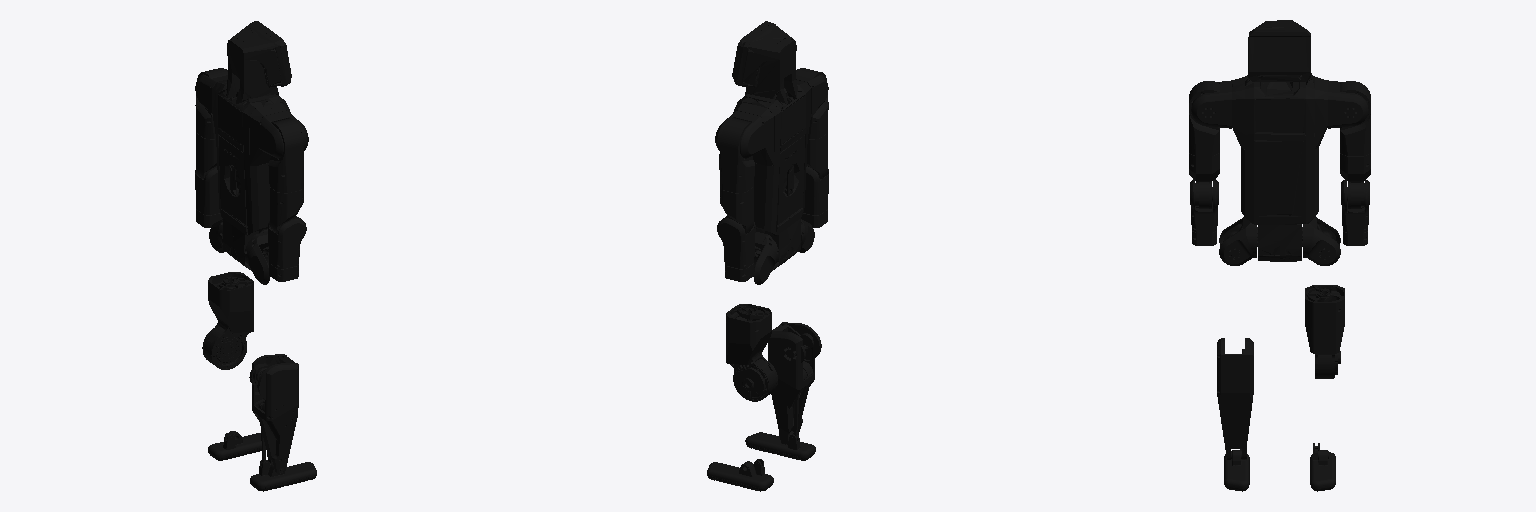
--- Facts derived from the render (not from the file) ---
The picture shows the robot from 3 angles, left to right: view 1: azimuth 30°, elevation 25°; view 2: azimuth 150°, elevation 25°; view 3: azimuth 270°, elevation 25°; orthographic projection.
Model assy_forurdf_kdheadless with 23 links and 22 joints (20 revolute, 2 fixed), rooted at base, posed every joint at zero.
Links seen in each view (by area): view 1: KD_B_102B_TORSO_BTM, KD_D_401R, KD_D_301L_L_Femur_Lower_Drive, RS03_3, KC_C_401R_R_UpForearmDrive, RFootBushing_GPF_1517_12, KC_C_101R_ShldYokeDrive, LFootBushing_GPF_1517_12, KC_C_202R, KD_D_102R, KC_C_401L_Up_Forearm_Drive, RS03_4 (+2 smaller); view 2: KD_B_102B_TORSO_BTM, KD_D_401R, KD_D_301L_L_Femur_Lower_Drive, RS03_4, KC_C_401L_Up_Forearm_Drive, LFootBushing_GPF_1517_12, RFootBushing_GPF_1517_12, KD_C_101L_ShldYokeDrive, KD_C_301L_LowerBicepDrive, KD_D_102L_L_Hip_Yoke_Drive, KC_C_401R_R_UpForearmDrive, RS03_3 (+2 smaller); view 3: KD_B_102B_TORSO_BTM, KD_D_401R, KD_D_301L_L_Femur_Lower_Drive, KD_D_102R, KD_D_102L_L_Hip_Yoke_Drive, KC_C_101R_ShldYokeDrive, KD_C_101L_ShldYokeDrive, RS03_4, RS03_3, KC_C_202R, KD_C_301L_LowerBicepDrive, LFootBushing_GPF_1517_12 (+3 smaller).
Link boxes in pixels (left/top/right/bottom): KD_B_102B_TORSO_BTM: left=212, top=21, right=291, bottom=270; KD_D_401R: left=249, top=354, right=298, bottom=474; KD_D_301L_L_Femur_Lower_Drive: left=202, top=272, right=253, bottom=369; RS03_3: left=268, top=118, right=303, bottom=192; KC_C_401R_R_UpForearmDrive: left=268, top=218, right=306, bottom=268; RFootBushing_GPF_1517_12: left=250, top=460, right=316, bottom=491; KC_C_101R_ShldYokeDrive: left=259, top=111, right=308, bottom=158; LFootBushing_GPF_1517_12: left=208, top=431, right=261, bottom=460; KC_C_202R: left=270, top=186, right=303, bottom=233; KD_D_102R: left=244, top=232, right=269, bottom=284; KC_C_401L_Up_Forearm_Drive: left=195, top=166, right=219, bottom=214; RS03_4: left=195, top=68, right=227, bottom=138; KD_B_102B_TORSO_BTM: left=732, top=21, right=810, bottom=271; KD_D_401R: left=768, top=322, right=821, bottom=443; KD_D_301L_L_Femur_Lower_Drive: left=726, top=304, right=777, bottom=401; RS03_4: left=719, top=118, right=754, bottom=192; KC_C_401L_Up_Forearm_Drive: left=717, top=218, right=755, bottom=268; LFootBushing_GPF_1517_12: left=707, top=459, right=773, bottom=491; RFootBushing_GPF_1517_12: left=745, top=431, right=815, bottom=460; KD_C_101L_ShldYokeDrive: left=715, top=111, right=764, bottom=158; KD_C_301L_LowerBicepDrive: left=720, top=187, right=753, bottom=233; KD_D_102L_L_Hip_Yoke_Drive: left=753, top=232, right=778, bottom=284; KC_C_401R_R_UpForearmDrive: left=803, top=166, right=828, bottom=214; RS03_3: left=796, top=68, right=828, bottom=138; KD_B_102B_TORSO_BTM: left=1232, top=20, right=1327, bottom=261; KD_D_401R: left=1217, top=338, right=1253, bottom=459; KD_D_301L_L_Femur_Lower_Drive: left=1305, top=285, right=1344, bottom=378; KD_D_102R: left=1219, top=217, right=1257, bottom=265; KD_D_102L_L_Hip_Yoke_Drive: left=1302, top=217, right=1340, bottom=265; KC_C_101R_ShldYokeDrive: left=1191, top=80, right=1231, bottom=128; KD_C_101L_ShldYokeDrive: left=1328, top=80, right=1368, bottom=128; RS03_4: left=1340, top=81, right=1370, bottom=155; RS03_3: left=1189, top=81, right=1219, bottom=155; KC_C_202R: left=1189, top=153, right=1219, bottom=208; KD_C_301L_LowerBicepDrive: left=1340, top=153, right=1370, bottom=208; LFootBushing_GPF_1517_12: left=1310, top=443, right=1335, bottom=491.
Bounding box of the posed robot: 0.2254 × 0.516 × 1.4 m (x, y, z).
18 mesh visuals loaded from 22 distinct referenced files (18 binary STL); not drawn: 4 (reference not matched to a file when rendering).

The robot description file, URDF, robot "assy_forurdf_kdheadless":
<?xml version="1.0" ?>
<robot name="assy_forurdf_kdheadless">
  <link name="base">
    <visual name="base_visual">
      <geometry name="base_geometry">
        <sphere radius="0.01"/>
      </geometry>
      <material name="base_material">
        <color rgba="1 0 0 1"/>
      </material>
      <origin xyz="0 0 0" rpy="0 0 1.5708"/>
    </visual>
    <inertial name="base_inertial">
      <mass value="0.001"/>
      <inertia ixx="0.000001" iyy="0.000001" izz="0.000001" ixy="0" ixz="0" iyz="0"/>
      <origin xyz="0 0 0" rpy="0 0 1.5708"/>
    </inertial>
  </link>
  <joint name="base_joint" type="fixed">
    <parent link="base"/>
    <child link="KD_B_102B_TORSO_BTM"/>
    <origin xyz="0 0 0" rpy="0 0 1.5708"/>
  </joint>
  <joint name="dof_left_hip_pitch_04" type="revolute">
    <origin xyz="0.056001 0.002025 -0.073841" rpy="-1.570796 0 1.570796"/>
    <parent link="KD_B_102B_TORSO_BTM"/>
    <child link="KD_D_102L_L_Hip_Yoke_Drive"/>
    <limit effort="120" velocity="17.488" lower="-1.047198" upper="2.216568"/>
    <axis xyz="0 0 1"/>
  </joint>
  <joint name="dof_right_shoulder_pitch_03" type="revolute">
    <origin xyz="-0.120999 0.002025 0.336659" rpy="0 -1.570796 0"/>
    <parent link="KD_B_102B_TORSO_BTM"/>
    <child link="KC_C_101R_ShldYokeDrive"/>
    <limit effort="60" velocity="18.849" lower="-3.490658" upper="1.047198"/>
    <axis xyz="0 0 -1"/>
  </joint>
  <joint name="dof_left_shoulder_pitch_03" type="revolute">
    <origin xyz="0.121001 0.002025 0.336659" rpy="0 1.570796 0"/>
    <parent link="KD_B_102B_TORSO_BTM"/>
    <child link="KD_C_101L_ShldYokeDrive"/>
    <limit effort="60" velocity="18.849" lower="-1.047198" upper="3.490658"/>
    <axis xyz="0 0 -1"/>
  </joint>
  <joint name="dof_left_hip_roll_03" type="revolute">
    <origin xyz="-0.028250 0.030000 -0.071000" rpy="3.141593 -1.570796 0"/>
    <parent link="KD_D_102L_L_Hip_Yoke_Drive"/>
    <child link="L_Hip_Roll_RS03"/>
    <limit effort="60" velocity="18.849" lower="-0.209440" upper="2.268928"/>
    <axis xyz="0 0 -1"/>
  </joint>
  <joint name="dof_right_hip_pitch_04" type="revolute">
    <origin xyz="-0.055999 0.002025 -0.073841" rpy="1.570796 0 1.570796"/>
    <parent link="KD_B_102B_TORSO_BTM"/>
    <child link="KD_D_102R"/>
    <limit effort="120" velocity="17.488" lower="-2.216568" upper="1.047198"/>
    <axis xyz="0 0 1"/>
  </joint>
  <joint name="dof_right_shoulder_roll_03" type="revolute">
    <origin xyz="0 -0.024250 0.080000" rpy="1.570796 1.570796 0"/>
    <parent link="KC_C_101R_ShldYokeDrive"/>
    <child link="RS03_3"/>
    <limit effort="60" velocity="18.849" lower="-1.658063" upper="0.436332"/>
    <axis xyz="0 0 1"/>
  </joint>
  <joint name="frame_imu_site" type="fixed" dont_collapse="true">
    <origin xyz="0.003707 -0.010539 0.394701" rpy="0.011111 0 0"/>
    <parent link="KD_B_102B_TORSO_BTM"/>
    <child link="imu"/>
  </joint>
  <joint name="dof_left_shoulder_roll_03" type="revolute">
    <origin xyz="0 -0.024250 0.080000" rpy="1.570796 -1.570796 0"/>
    <parent link="KD_C_101L_ShldYokeDrive"/>
    <child link="RS03_4"/>
    <limit effort="60" velocity="18.849" lower="-0.436332" upper="1.658063"/>
    <axis xyz="0 0 1"/>
  </joint>
  <joint name="dof_right_hip_roll_03" type="revolute">
    <origin xyz="-0.028250 -0.030000 -0.071000" rpy="0 -1.570796 0"/>
    <parent link="KD_D_102R"/>
    <child link="L_Hip_Roll_RS03_2"/>
    <limit effort="60" velocity="18.849" lower="-2.268928" upper="0.209440"/>
    <axis xyz="0 0 1"/>
  </joint>
  <joint name="dof_left_hip_yaw_03" type="revolute">
    <origin xyz="0 -0.143000 0.025250" rpy="1.570796 0 -3.141593"/>
    <parent link="L_Hip_Roll_RS03"/>
    <child link="KD_D_301L_L_Femur_Lower_Drive"/>
    <limit effort="60" velocity="18.849" lower="-1.570796" upper="1.570796"/>
    <axis xyz="0 0 1"/>
  </joint>
  <joint name="dof_right_shoulder_yaw_02" type="revolute">
    <origin xyz="-0.013000 -0.142500 -0.031670" rpy="-1.570796 0 0"/>
    <parent link="RS03_3"/>
    <child link="KC_C_202R"/>
    <limit effort="17" velocity="37.699" lower="-1.671886" upper="1.671886"/>
    <axis xyz="0 0 1"/>
  </joint>
  <joint name="dof_left_shoulder_yaw_02" type="revolute">
    <origin xyz="0.013000 -0.142500 -0.030750" rpy="-1.570796 0 0"/>
    <parent link="RS03_4"/>
    <child link="KD_C_301L_LowerBicepDrive"/>
    <limit effort="17" velocity="37.699" lower="-1.671886" upper="1.671886"/>
    <axis xyz="0 0 1"/>
  </joint>
  <joint name="dof_right_hip_yaw_03" type="revolute">
    <origin xyz="0 -0.143000 -0.025250" rpy="-1.570796 0 0"/>
    <parent link="L_Hip_Roll_RS03_2"/>
    <child link="KD_D_301R"/>
    <limit effort="60" velocity="18.849" lower="-1.570796" upper="1.570796"/>
    <axis xyz="0 0 1"/>
  </joint>
  <joint name="dof_left_knee_04" type="revolute">
    <origin xyz="-0.021000 0.021000 -0.212000" rpy="1.570796 0 1.570796"/>
    <parent link="KD_D_301L_L_Femur_Lower_Drive"/>
    <child link="KD_D_401L_L_Shin_Drive"/>
    <limit effort="120" velocity="17.488" lower="0" upper="2.705260"/>
    <axis xyz="0 0 1"/>
  </joint>
  <joint name="dof_right_elbow_02" type="revolute">
    <origin xyz="0.019000 -0.010000 -0.137000" rpy="-1.570796 0 1.570796"/>
    <parent link="KC_C_202R"/>
    <child link="KC_C_401R_R_UpForearmDrive"/>
    <limit effort="17" velocity="37.699" lower="0" upper="2.478368"/>
    <axis xyz="0 0 1"/>
  </joint>
  <joint name="dof_left_elbow_02" type="revolute">
    <origin xyz="-0.019000 -0.010000 -0.137000" rpy="1.570796 0 1.570796"/>
    <parent link="KD_C_301L_LowerBicepDrive"/>
    <child link="KC_C_401L_Up_Forearm_Drive"/>
    <limit effort="17" velocity="37.699" lower="-2.478368" upper="0"/>
    <axis xyz="0 0 1"/>
  </joint>
  <joint name="dof_left_ankle_02" type="revolute">
    <origin xyz="-0.030000 -0.290000 0.000950" rpy="3.141593 0 0"/>
    <parent link="KD_D_401L_L_Shin_Drive"/>
    <child link="LFootBushing_GPF_1517_12"/>
    <limit effort="17" velocity="37.699" lower="-1.134464" upper="0.261799"/>
    <axis xyz="0 0 -1"/>
  </joint>
  <joint name="dof_right_knee_04" type="revolute">
    <origin xyz="0.021000 0.021000 -0.212000" rpy="1.570796 0 1.570796"/>
    <parent link="KD_D_301R"/>
    <child link="KD_D_401R"/>
    <limit effort="120" velocity="17.488" lower="-2.705260" upper="0"/>
    <axis xyz="0 0 -1"/>
  </joint>
  <joint name="dof_right_ankle_02" type="revolute">
    <origin xyz="-0.030000 -0.290000 -0.000950" rpy="0 0 0"/>
    <parent link="KD_D_401R"/>
    <child link="RFootBushing_GPF_1517_12"/>
    <limit effort="17" velocity="37.699" lower="-0.261799" upper="1.134464"/>
    <axis xyz="0 0 -1"/>
  </joint>
  <joint name="dof_right_wrist_00" type="revolute">
    <origin xyz="0.017350 0.103000 0.018000" rpy="-1.570796 1.570796 0"/>
    <parent link="KC_C_401R_R_UpForearmDrive"/>
    <child link="PRT0001"/>
    <limit effort="14" velocity="27.227" lower="-1.378810" upper="1.378810"/>
    <axis xyz="0 0 -1"/>
  </joint>
  <joint name="dof_left_wrist_00" type="revolute">
    <origin xyz="0.017350 -0.103000 0.018000" rpy="1.570796 -1.570796 0"/>
    <parent link="KC_C_401L_Up_Forearm_Drive"/>
    <child link="PRT0001_2"/>
    <limit effort="14" velocity="27.227" lower="-1.378810" upper="1.378810"/>
    <axis xyz="0 0 -1"/>
  </joint>
  <link name="KD_B_102B_TORSO_BTM">
    <visual name="KD_B_102B_TORSO_BTM_visual">
      <origin xyz="0 0 0" rpy="0 0 0"/>
      <geometry name="KD_B_102B_TORSO_BTM_geometry">
        <mesh filename="meshes/KD_B_102B_TORSO_BTM.stl"/>
      </geometry>
      <material name="KD_B_102B_TORSO_BTM_material">
        <color rgba="0.121569 0.121569 0.121569 1"/>
      </material>
    </visual>
    <collision name="KD_B_102B_TORSO_BTM.collision">
      <origin xyz="0 0 0" rpy="0 0 0"/>
      <geometry name="KD_B_102B_TORSO_BTM_collision_geometry">
        <mesh filename="meshes/KD_B_102B_TORSO_BTM.collision.stl"/>
      </geometry>
    </collision>
    <inertial name="KD_B_102B_TORSO_BTM_inertial">
      <mass value="12.968840"/>
      <inertia ixx="0.542704" iyy="0.570591" izz="0.062989" ixy="-0.000003" ixz="0.000138" iyz="0.017774"/>
      <origin xyz="-0.000062 0.000320 0.159904" rpy="0 0 0"/>
    </inertial>
  </link>
  <link name="KD_D_102L_L_Hip_Yoke_Drive">
    <visual name="KD_D_102L_L_Hip_Yoke_Drive_visual">
      <origin xyz="0 0 0" rpy="0 0 0"/>
      <geometry name="KD_D_102L_L_Hip_Yoke_Drive_geometry">
        <mesh filename="meshes/KD_D_102L_L_Hip_Yoke_Drive.stl"/>
      </geometry>
      <material name="KD_D_102L_L_Hip_Yoke_Drive_material">
        <color rgba="0.121569 0.121569 0.121569 1"/>
      </material>
    </visual>
    <collision name="KD_D_102L_L_Hip_Yoke_Drive.collision">
      <origin xyz="0 0 0" rpy="0 0 0"/>
      <geometry name="KD_D_102L_L_Hip_Yoke_Drive_collision_geometry">
        <mesh filename="meshes/KD_D_102L_L_Hip_Yoke_Drive.collision.stl"/>
      </geometry>
    </collision>
    <inertial name="KD_D_102L_L_Hip_Yoke_Drive_inertial">
      <mass value="0.550354"/>
      <inertia ixx="0.000930" iyy="0.001251" izz="0.001328" ixy="0.000057" ixz="-0.000041" iyz="0.000182"/>
      <origin xyz="-0.004258 0.005667 -0.040380" rpy="0 0 0"/>
    </inertial>
  </link>
  <link name="KC_C_101R_ShldYokeDrive">
    <visual name="KC_C_101R_ShldYokeDrive_visual">
      <origin xyz="0 0 0" rpy="0 0 0"/>
      <geometry name="KC_C_101R_ShldYokeDrive_geometry">
        <mesh filename="meshes/KC_C_101R_ShldYokeDrive.stl"/>
      </geometry>
      <material name="KC_C_101R_ShldYokeDrive_material">
        <color rgba="0.121569 0.121569 0.121569 1"/>
      </material>
    </visual>
    <collision name="KC_C_101R_ShldYokeDrive.collision">
      <origin xyz="0 0 0" rpy="0 0 0"/>
      <geometry name="KC_C_101R_ShldYokeDrive_collision_geometry">
        <mesh filename="meshes/KC_C_101R_ShldYokeDrive.collision.stl"/>
      </geometry>
    </collision>
    <inertial name="KC_C_101R_ShldYokeDrive_inertial">
      <mass value="0.569870"/>
      <inertia ixx="0.001409" iyy="0.001159" izz="0.001309" ixy="0" ixz="0.000001" iyz="0.000162"/>
      <origin xyz="0.003158 -0.007737 0.047375" rpy="0 0 0"/>
    </inertial>
  </link>
  <link name="KD_C_101L_ShldYokeDrive">
    <visual name="KD_C_101L_ShldYokeDrive_visual">
      <origin xyz="0 0 0" rpy="0 0 0"/>
      <geometry name="KD_C_101L_ShldYokeDrive_geometry">
        <mesh filename="meshes/KD_C_101L_ShldYokeDrive.stl"/>
      </geometry>
      <material name="KD_C_101L_ShldYokeDrive_material">
        <color rgba="0.121569 0.121569 0.121569 1"/>
      </material>
    </visual>
    <collision name="KD_C_101L_ShldYokeDrive.collision">
      <origin xyz="0 0 0" rpy="0 0 0"/>
      <geometry name="KD_C_101L_ShldYokeDrive_collision_geometry">
        <mesh filename="meshes/KD_C_101L_ShldYokeDrive.collision.stl"/>
      </geometry>
    </collision>
    <inertial name="KD_C_101L_ShldYokeDrive_inertial">
      <mass value="0.569863"/>
      <inertia ixx="0.001409" iyy="0.001159" izz="0.001309" ixy="0" ixz="-0.000001" iyz="0.000162"/>
      <origin xyz="-0.003158 -0.007737 0.047374" rpy="0 0 0"/>
    </inertial>
  </link>
  <link name="L_Hip_Roll_RS03">
    <visual name="L_Hip_Roll_RS03_visual">
      <origin xyz="0 0 0" rpy="0 0 0"/>
      <geometry name="L_Hip_Roll_RS03_geometry">
        <mesh filename="meshes/L_Hip_Roll_RS03.stl"/>
      </geometry>
      <material name="L_Hip_Roll_RS03_material">
        <color rgba="0.121569 0.121569 0.121569 1"/>
      </material>
    </visual>
    <collision name="L_Hip_Roll_RS03.collision">
      <origin xyz="0 0 0" rpy="0 0 0"/>
      <geometry name="L_Hip_Roll_RS03_collision_geometry">
        <mesh filename="meshes/L_Hip_Roll_RS03.collision.stl"/>
      </geometry>
    </collision>
    <inertial name="L_Hip_Roll_RS03_inertial">
      <mass value="2.396969"/>
      <inertia ixx="0.010350" iyy="0.003224" izz="0.010755" ixy="0.000002" ixz="0.000009" iyz="-0.000303"/>
      <origin xyz="-0.000136 -0.059376 0.026066" rpy="0 0 0"/>
    </inertial>
  </link>
  <link name="KD_D_102R">
    <visual name="KD_D_102R_visual">
      <origin xyz="0 0 0" rpy="0 0 0"/>
      <geometry name="KD_D_102R_geometry">
        <mesh filename="meshes/KD_D_102R.stl"/>
      </geometry>
      <material name="KD_D_102R_material">
        <color rgba="0.121569 0.121569 0.121569 1"/>
      </material>
    </visual>
    <collision name="KD_D_102R.collision">
      <origin xyz="0 0 0" rpy="0 0 0"/>
      <geometry name="KD_D_102R_collision_geometry">
        <mesh filename="meshes/KD_D_102R.collision.stl"/>
      </geometry>
    </collision>
    <inertial name="KD_D_102R_inertial">
      <mass value="0.550361"/>
      <inertia ixx="0.000930" iyy="0.001251" izz="0.001328" ixy="-0.000057" ixz="-0.000041" iyz="-0.000182"/>
      <origin xyz="-0.004258 -0.005667 -0.040379" rpy="0 0 0"/>
    </inertial>
  </link>
  <link name="RS03_3">
    <visual name="RS03_visual_3">
      <origin xyz="0 0 0" rpy="0 0 0"/>
      <geometry name="RS03_geometry_3">
        <mesh filename="meshes/RS03_3.stl"/>
      </geometry>
      <material name="RS03_material_3">
        <color rgba="0.121569 0.121569 0.121569 1"/>
      </material>
    </visual>
    <collision name="RS03.collision_3">
      <origin xyz="0 0 0" rpy="0 0 0"/>
      <geometry name="RS03_collision_geometry_3">
        <mesh filename="meshes/RS03_3.collision.stl"/>
      </geometry>
    </collision>
    <inertial name="RS03_inertial_3">
      <mass value="1.789232"/>
      <inertia ixx="0.007176" iyy="0.001972" izz="0.007602" ixy="-0.000597" ixz="-0.000001" iyz="-0.000081"/>
      <origin xyz="-0.004909 -0.041175 -0.029409" rpy="0 0 0"/>
    </inertial>
  </link>
  <link name="imu">
    <visual name="imu_visual">
      <origin xyz="0 0 0" rpy="0 0 0"/>
      <geometry name="imu_geometry">
        <mesh filename="meshes/imu.stl"/>
      </geometry>
      <material name="imu_material">
        <color rgba="0.121569 0.121569 0.121569 1"/>
      </material>
    </visual>
    <collision name="imu.collision">
      <origin xyz="0 0 0" rpy="0 0 0"/>
      <geometry name="imu_collision_geometry">
        <mesh filename="meshes/imu.collision.stl"/>
      </geometry>
    </collision>
    <inertial name="imu_inertial">
      <mass value="0.005700"/>
      <inertia ixx="0.000001" iyy="0.000001" izz="0.000002" ixy="0" ixz="0" iyz="0"/>
      <origin xyz="-0.003012 -0.000068 0.002999" rpy="0 0 0"/>
    </inertial>
  </link>
  <link name="RS03_4">
    <visual name="RS03_visual_4">
      <origin xyz="0 0 0" rpy="0 0 0"/>
      <geometry name="RS03_geometry_4">
        <mesh filename="meshes/RS03_4.stl"/>
      </geometry>
      <material name="RS03_material_4">
        <color rgba="0.121569 0.121569 0.121569 1"/>
      </material>
    </visual>
    <collision name="RS03.collision_4">
      <origin xyz="0 0 0" rpy="0 0 0"/>
      <geometry name="RS03_collision_geometry_4">
        <mesh filename="meshes/RS03_4.collision.stl"/>
      </geometry>
    </collision>
    <inertial name="RS03_inertial_4">
      <mass value="1.789190"/>
      <inertia ixx="0.007175" iyy="0.001972" izz="0.007602" ixy="0.000599" ixz="0.000012" iyz="-0.000104"/>
      <origin xyz="0.004876 -0.041173 -0.029352" rpy="0 0 0"/>
    </inertial>
  </link>
  <link name="L_Hip_Roll_RS03_2">
    <visual name="L_Hip_Roll_RS03_visual_2">
      <origin xyz="0 0 0" rpy="0 0 0"/>
      <geometry name="L_Hip_Roll_RS03_geometry_2">
        <mesh filename="meshes/L_Hip_Roll_RS03_2.stl"/>
      </geometry>
      <material name="L_Hip_Roll_RS03_material_2">
        <color rgba="0.121569 0.121569 0.121569 1"/>
      </material>
    </visual>
    <collision name="L_Hip_Roll_RS03.collision_2">
      <origin xyz="0 0 0" rpy="0 0 0"/>
      <geometry name="L_Hip_Roll_RS03_collision_geometry_2">
        <mesh filename="meshes/L_Hip_Roll_RS03_2.collision.stl"/>
      </geometry>
    </collision>
    <inertial name="L_Hip_Roll_RS03_inertial_2">
      <mass value="2.396917"/>
      <inertia ixx="0.010350" iyy="0.003224" izz="0.010755" ixy="0.000002" ixz="-0.000009" iyz="0.000303"/>
      <origin xyz="-0.000137 -0.059376 -0.026067" rpy="0 0 0"/>
    </inertial>
  </link>
  <link name="KD_D_301L_L_Femur_Lower_Drive">
    <visual name="KD_D_301L_L_Femur_Lower_Drive_visual">
      <origin xyz="0 0 0" rpy="0 0 0"/>
      <geometry name="KD_D_301L_L_Femur_Lower_Drive_geometry">
        <mesh filename="meshes/KD_D_301L_L_Femur_Lower_Drive.stl"/>
      </geometry>
      <material name="KD_D_301L_L_Femur_Lower_Drive_material">
        <color rgba="0.121569 0.121569 0.121569 1"/>
      </material>
    </visual>
    <collision name="KD_D_301L_L_Femur_Lower_Drive.collision">
      <origin xyz="0 0 0" rpy="0 0 0"/>
      <geometry name="KD_D_301L_L_Femur_Lower_Drive_collision_geometry">
        <mesh filename="meshes/KD_D_301L_L_Femur_Lower_Drive.collision.stl"/>
      </geometry>
    </collision>
    <inertial name="KD_D_301L_L_Femur_Lower_Drive_inertial">
      <mass value="2.349254"/>
      <inertia ixx="0.015361" iyy="0.013924" izz="0.004011" ixy="-0.000189" ixz="0.001119" iyz="0.001496"/>
      <origin xyz="0.001576 0.013392 -0.172799" rpy="0 0 0"/>
    </inertial>
  </link>
  <link name="KC_C_202R">
    <visual name="KC_C_202R_visual">
      <origin xyz="0 0 0" rpy="0 0 0"/>
      <geometry name="KC_C_202R_geometry">
        <mesh filename="meshes/KC_C_202R.stl"/>
      </geometry>
      <material name="KC_C_202R_material">
        <color rgba="0.121569 0.121569 0.121569 1"/>
      </material>
    </visual>
    <collision name="KC_C_202R.collision">
      <origin xyz="0 0 0" rpy="0 0 0"/>
      <geometry name="KC_C_202R_collision_geometry">
        <mesh filename="meshes/KC_C_202R.collision.stl"/>
      </geometry>
    </collision>
    <inertial name="KC_C_202R_inertial">
      <mass value="0.753224"/>
      <inertia ixx="0.002457" iyy="0.002305" izz="0.000727" ixy="-0.000034" ixz="-0.000250" iyz="-0.000139"/>
      <origin xyz="0.003135 -0.003955 -0.099599" rpy="0 0 0"/>
    </inertial>
  </link>
  <link name="KD_C_301L_LowerBicepDrive">
    <visual name="KD_C_301L_LowerBicepDrive_visual">
      <origin xyz="0 0 0" rpy="0 0 0"/>
      <geometry name="KD_C_301L_LowerBicepDrive_geometry">
        <mesh filename="meshes/KD_C_301L_LowerBicepDrive.stl"/>
      </geometry>
      <material name="KD_C_301L_LowerBicepDrive_material">
        <color rgba="0.121569 0.121569 0.121569 1"/>
      </material>
    </visual>
    <collision name="KD_C_301L_LowerBicepDrive.collision">
      <origin xyz="0 0 0" rpy="0 0 0"/>
      <geometry name="KD_C_301L_LowerBicepDrive_collision_geometry">
        <mesh filename="meshes/KD_C_301L_LowerBicepDrive.collision.stl"/>
      </geometry>
    </collision>
    <inertial name="KD_C_301L_LowerBicepDrive_inertial">
      <mass value="0.866827"/>
      <inertia ixx="0.002953" iyy="0.002777" izz="0.000923" ixy="0.000016" ixz="0.000145" iyz="-0.000150"/>
      <origin xyz="0.000333 -0.002948 -0.095705" rpy="0 0 0"/>
    </inertial>
  </link>
  <link name="KD_D_301R">
    <visual name="KD_D_301R_visual">
      <origin xyz="0 0 0" rpy="0 0 0"/>
      <geometry name="KD_D_301R_geometry">
        <mesh filename="meshes/KD_D_301R.stl"/>
      </geometry>
      <material name="KD_D_301R_material">
        <color rgba="0.121569 0.121569 0.121569 1"/>
      </material>
    </visual>
    <collision name="KD_D_301R.collision">
      <origin xyz="0 0 0" rpy="0 0 0"/>
      <geometry name="KD_D_301R_collision_geometry">
        <mesh filename="meshes/KD_D_301R.collision.stl"/>
      </geometry>
    </collision>
    <inertial name="KD_D_301R_inertial">
      <mass value="2.349261"/>
      <inertia ixx="0.015362" iyy="0.013924" izz="0.004011" ixy="0.000189" ixz="-0.001119" iyz="0.001496"/>
      <origin xyz="-0.001577 0.013392 -0.172799" rpy="0 0 0"/>
    </inertial>
  </link>
  <link name="KD_D_401L_L_Shin_Drive">
    <visual name="KD_D_401L_L_Shin_Drive_visual">
      <origin xyz="0 0 0" rpy="0 0 0"/>
      <geometry name="KD_D_401L_L_Shin_Drive_geometry">
        <mesh filename="meshes/KD_D_401L_L_Shin_Drive.stl"/>
      </geometry>
      <material name="KD_D_401L_L_Shin_Drive_material">
        <color rgba="0.121569 0.121569 0.121569 1"/>
      </material>
    </visual>
    <collision name="KD_D_401L_L_Shin_Drive.collision">
      <origin xyz="0 0 0" rpy="0 0 0"/>
      <geometry name="KD_D_401L_L_Shin_Drive_collision_geometry">
        <mesh filename="meshes/KD_D_401L_L_Shin_Drive.collision.stl"/>
      </geometry>
    </collision>
    <inertial name="KD_D_401L_L_Shin_Drive_inertial">
      <mass value="1.684707"/>
      <inertia ixx="0.014785" iyy="0.002991" izz="0.014664" ixy="-0.000101" ixz="0.000022" iyz="0.000493"/>
      <origin xyz="-0.024116 -0.104308 0.018559" rpy="0 0 0"/>
    </inertial>
  </link>
  <link name="KC_C_401R_R_UpForearmDrive">
    <visual name="KC_C_401R_R_UpForearmDrive_visual">
      <origin xyz="0 0 0" rpy="0 0 0"/>
      <geometry name="KC_C_401R_R_UpForearmDrive_geometry">
        <mesh filename="meshes/KC_C_401R_R_UpForearmDrive.stl"/>
      </geometry>
      <material name="KC_C_401R_R_UpForearmDrive_material">
        <color rgba="0.121569 0.121569 0.121569 1"/>
      </material>
    </visual>
    <collision name="KC_C_401R_R_UpForearmDrive.collision">
      <origin xyz="0 0 0" rpy="0 0 0"/>
      <geometry name="KC_C_401R_R_UpForearmDrive_collision_geometry">
        <mesh filename="meshes/KC_C_401R_R_UpForearmDrive.collision.stl"/>
      </geometry>
    </collision>
    <inertial name="KC_C_401R_R_UpForearmDrive_inertial">
      <mass value="0.641859"/>
      <inertia ixx="0.001302" iyy="0.000701" izz="0.001278" ixy="-0.000051" ixz="-0.000010" iyz="-0.000045"/>
      <origin xyz="0.015853 0.061198 0.015613" rpy="0 0 0"/>
    </inertial>
  </link>
  <link name="KC_C_401L_Up_Forearm_Drive">
    <visual name="KC_C_401L_Up_Forearm_Drive_visual">
      <origin xyz="0 0 0" rpy="0 0 0"/>
      <geometry name="KC_C_401L_Up_Forearm_Drive_geometry">
        <mesh filename="meshes/KC_C_401L_Up_Forearm_Drive.stl"/>
      </geometry>
      <material name="KC_C_401L_Up_Forearm_Drive_material">
        <color rgba="0.121569 0.121569 0.121569 1"/>
      </material>
    </visual>
    <collision name="KC_C_401L_Up_Forearm_Drive.collision">
      <origin xyz="0 0 0" rpy="0 0 0"/>
      <geometry name="KC_C_401L_Up_Forearm_Drive_collision_geometry">
        <mesh filename="meshes/KC_C_401L_Up_Forearm_Drive.collision.stl"/>
      </geometry>
    </collision>
    <inertial name="KC_C_401L_Up_Forearm_Drive_inertial">
      <mass value="0.641873"/>
      <inertia ixx="0.001303" iyy="0.000701" izz="0.001278" ixy="0.000051" ixz="-0.000010" iyz="0.000048"/>
      <origin xyz="0.015853 -0.061197 0.015921" rpy="0 0 0"/>
    </inertial>
  </link>
  <link name="LFootBushing_GPF_1517_12">
    <visual name="LFootBushing_GPF_1517_12_visual">
      <origin xyz="0 0 0" rpy="0 0 0"/>
      <geometry name="LFootBushing_GPF_1517_12_geometry">
        <mesh filename="meshes/LFootBushing_GPF_1517_12.stl"/>
      </geometry>
      <material name="LFootBushing_GPF_1517_12_material">
        <color rgba="0.121569 0.121569 0.121569 1"/>
      </material>
    </visual>
    <collision name="LFootBushing_GPF_1517_12.collision">
      <origin xyz="0 0 0" rpy="0 0 0"/>
      <geometry name="LFootBushing_GPF_1517_12_collision_geometry">
        <mesh filename="meshes/LFootBushing_GPF_1517_12.collision.stl"/>
      </geometry>
    </collision>
    <inertial name="LFootBushing_GPF_1517_12_inertial">
      <mass value="0.608966"/>
      <inertia ixx="0.000377" iyy="0.001940" izz="0.001893" ixy="0.000126" ixz="-0.000025" iyz="0.000027"/>
      <origin xyz="-0.016549 0.031142 -0.012943" rpy="0 0 0"/>
    </inertial>
  </link>
  <link name="KD_D_401R">
    <visual name="KD_D_401R_visual">
      <origin xyz="0 0 0" rpy="0 0 0"/>
      <geometry name="KD_D_401R_geometry">
        <mesh filename="meshes/KD_D_401R.stl"/>
      </geometry>
      <material name="KD_D_401R_material">
        <color rgba="0.121569 0.121569 0.121569 1"/>
      </material>
    </visual>
    <collision name="KD_D_401R.collision">
      <origin xyz="0 0 0" rpy="0 0 0"/>
      <geometry name="KD_D_401R_collision_geometry">
        <mesh filename="meshes/KD_D_401R.collision.stl"/>
      </geometry>
    </collision>
    <inertial name="KD_D_401R_inertial">
      <mass value="1.684717"/>
      <inertia ixx="0.014785" iyy="0.002991" izz="0.014664" ixy="-0.000101" ixz="-0.000022" iyz="-0.000494"/>
      <origin xyz="-0.024117 -0.104310 -0.018558" rpy="0 0 0"/>
    </inertial>
  </link>
  <link name="RFootBushing_GPF_1517_12">
    <visual name="RFootBushing_GPF_1517_12_visual">
      <origin xyz="0 0 0" rpy="0 0 0"/>
      <geometry name="RFootBushing_GPF_1517_12_geometry">
        <mesh filename="meshes/RFootBushing_GPF_1517_12.stl"/>
      </geometry>
      <material name="RFootBushing_GPF_1517_12_material">
        <color rgba="0.121569 0.121569 0.121569 1"/>
      </material>
    </visual>
    <collision name="RFootBushing_GPF_1517_12.collision">
      <origin xyz="0 0 0" rpy="0 0 0"/>
      <geometry name="RFootBushing_GPF_1517_12_collision_geometry">
        <mesh filename="meshes/RFootBushing_GPF_1517_12.collision.stl"/>
      </geometry>
    </collision>
    <inertial name="RFootBushing_GPF_1517_12_inertial">
      <mass value="0.608742"/>
      <inertia ixx="0.000377" iyy="0.001939" izz="0.001892" ixy="-0.000126" ixz="-0.000025" iyz="-0.000027"/>
      <origin xyz="-0.016546 -0.031136 -0.012942" rpy="0 0 0"/>
    </inertial>
  </link>
  <link name="PRT0001">
    <visual name="PRT0001_visual">
      <origin xyz="0 0 0" rpy="0 0 0"/>
      <geometry name="PRT0001_geometry">
        <mesh filename="meshes/PRT0001.stl"/>
      </geometry>
      <material name="PRT0001_material">
        <color rgba="0.121569 0.121569 0.121569 1"/>
      </material>
    </visual>
    <collision name="PRT0001.collision">
      <origin xyz="0 0 0" rpy="0 0 0"/>
      <geometry name="PRT0001_collision_geometry">
        <mesh filename="meshes/PRT0001.collision.stl"/>
      </geometry>
    </collision>
    <inertial name="PRT0001_inertial">
      <mass value="0.469028"/>
      <inertia ixx="0.000279" iyy="0.000270" izz="0.000412" ixy="0" ixz="0.000002" iyz="0"/>
      <origin xyz="0.000339 0.000063 0.027268" rpy="0 0 0"/>
    </inertial>
  </link>
  <link name="PRT0001_2">
    <visual name="PRT0001_visual_2">
      <origin xyz="0 0 0" rpy="0 0 0"/>
      <geometry name="PRT0001_geometry_2">
        <mesh filename="meshes/PRT0001_2.stl"/>
      </geometry>
      <material name="PRT0001_material_2">
        <color rgba="0.121569 0.121569 0.121569 1"/>
      </material>
    </visual>
    <collision name="PRT0001.collision_2">
      <origin xyz="0 0 0" rpy="0 0 0"/>
      <geometry name="PRT0001_collision_geometry_2">
        <mesh filename="meshes/PRT0001_2.collision.stl"/>
      </geometry>
    </collision>
    <inertial name="PRT0001_inertial_2">
      <mass value="0.469028"/>
      <inertia ixx="0.000279" iyy="0.000270" izz="0.000412" ixy="0" ixz="-0.000002" iyz="0"/>
      <origin xyz="-0.000339 -0.000063 0.027268" rpy="0 0 0"/>
    </inertial>
  </link>
</robot>
